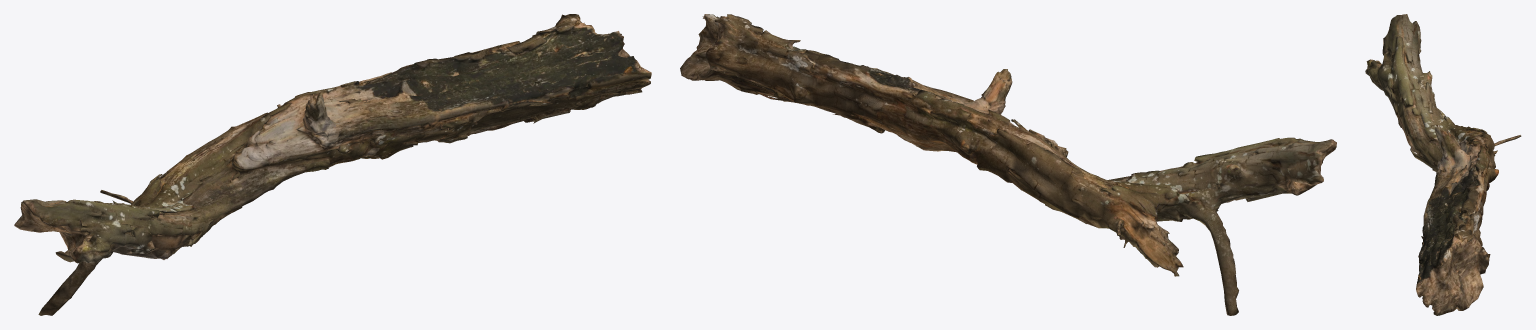
Rendered from dead_trunk_b.glb.
3 views of the same model, side by side, from view 1: azimuth 30°, elevation 25°; view 2: azimuth 150°, elevation 25°; view 3: azimuth 270°, elevation 25° (orthographic). The views are drawn at different scales.
Visible parts, largest first — view 1: dead_tree_trunk_02; view 2: dead_tree_trunk_02; view 3: dead_tree_trunk_02.
Part boxes in pixels (left/top/right/bottom): dead_tree_trunk_02: left=14, top=14, right=651, bottom=315; dead_tree_trunk_02: left=680, top=14, right=1336, bottom=315; dead_tree_trunk_02: left=1365, top=14, right=1521, bottom=315.
Size of the model in its own units: 4.05 by 1.05 by 1.05.
Materials: 1 (1 with a texture image).
